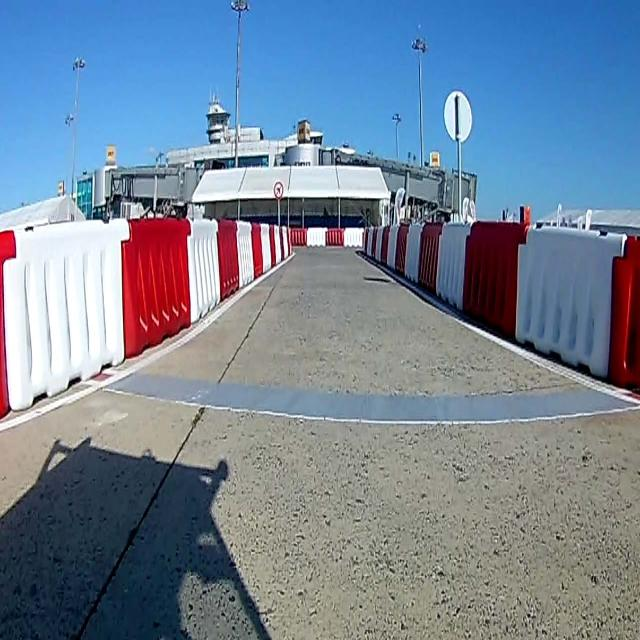soladonulmez: (272, 182, 286, 200)
